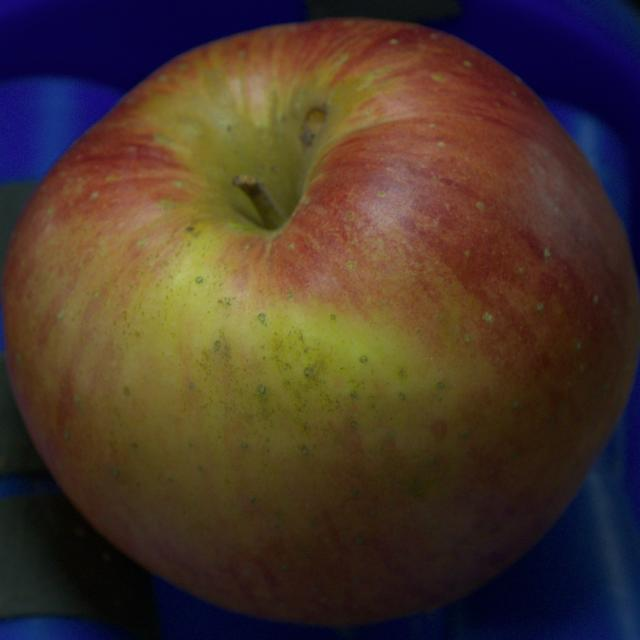apple: (2, 19, 639, 626)
pest: (300, 108, 326, 146)
